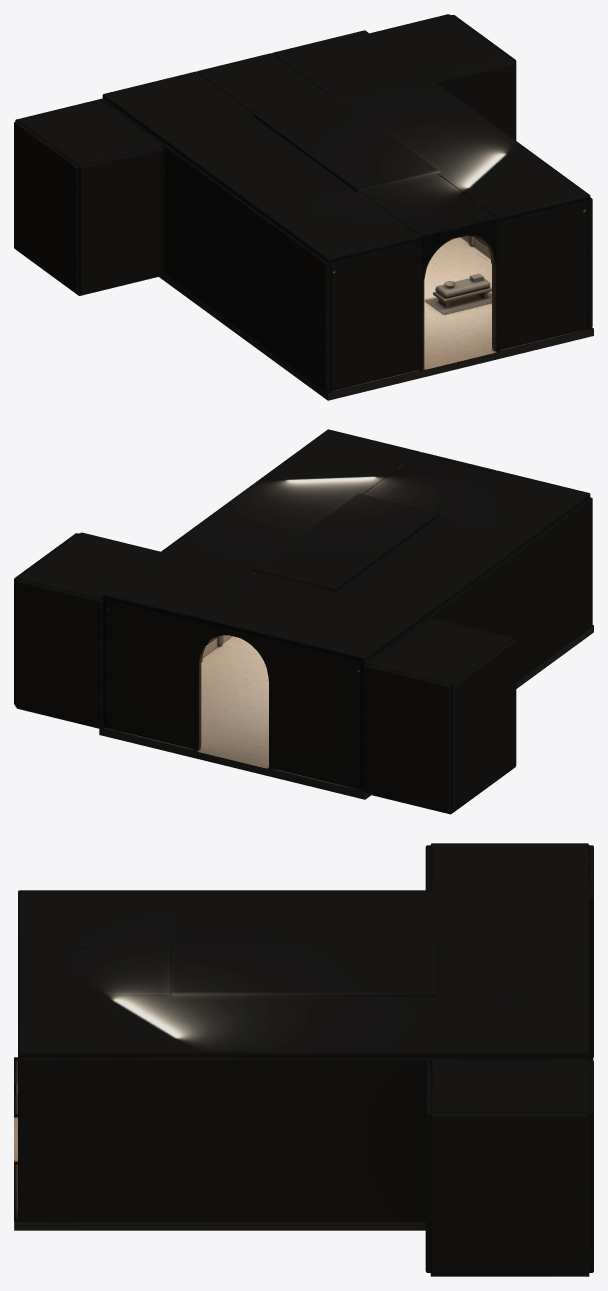
Rendered from extension-interior.glb.
3 renders of one model, top to bottom at view 1: azimuth 30°, elevation 25°; view 2: azimuth 150°, elevation 25°; view 3: azimuth 270°, elevation 25°, orthographic. The views are drawn at different scales.
Parts seen in each view (by area): view 1: LIGHTMAP extension walls, SURFACE extension floor, SURFACE extension furniture; view 2: LIGHTMAP extension walls, SURFACE extension floor; view 3: LIGHTMAP extension walls, SURFACE extension floor.
Part boxes in pixels (x1,y1,x2,y2): LIGHTMAP extension walls: [14, 14, 592, 392]; SURFACE extension floor: [76, 236, 593, 400]; SURFACE extension furniture: [425, 273, 491, 314]; LIGHTMAP extension walls: [14, 429, 592, 812]; SURFACE extension floor: [16, 625, 593, 814]; LIGHTMAP extension walls: [18, 843, 593, 1274]; SURFACE extension floor: [14, 1057, 593, 1276].
Size of the model in its own units: 20.3 by 6.28 by 18.27.
Materials: 18 (17 with a texture image).
